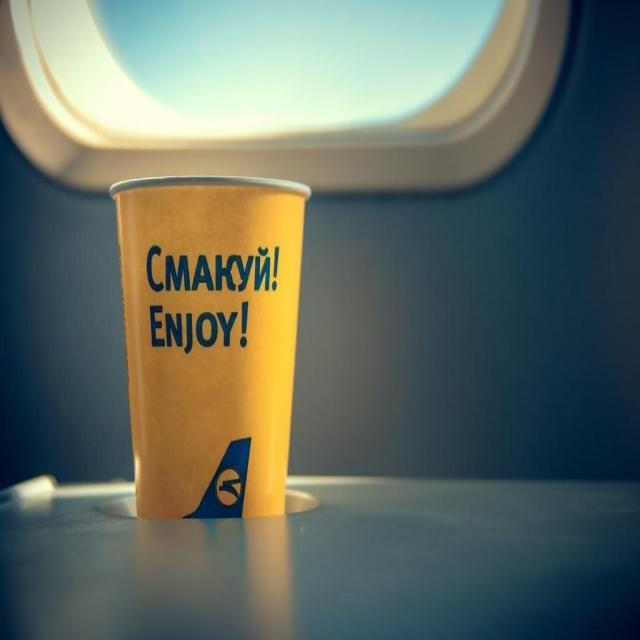cup-disposable: (109, 173, 311, 522)
